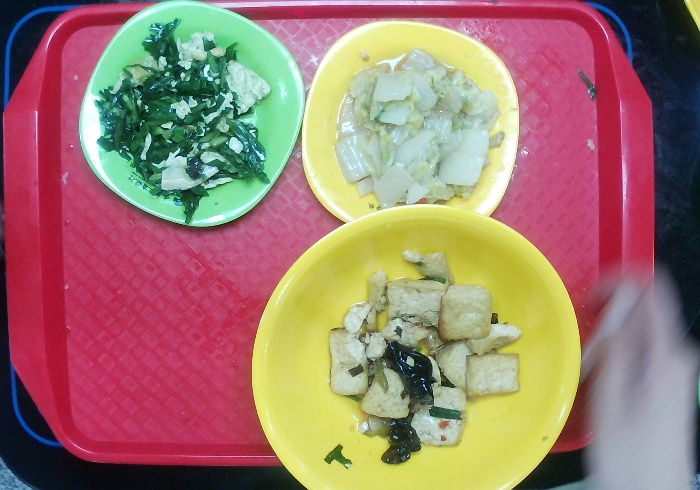YKMZ-Huang_Se_Fang_Die: (302, 20, 523, 230)
YKMZ-Huang_Se_Tang_Wan: (252, 205, 583, 490)
YKMZ-Lv_Se_Fang_Die: (78, 1, 305, 226)
